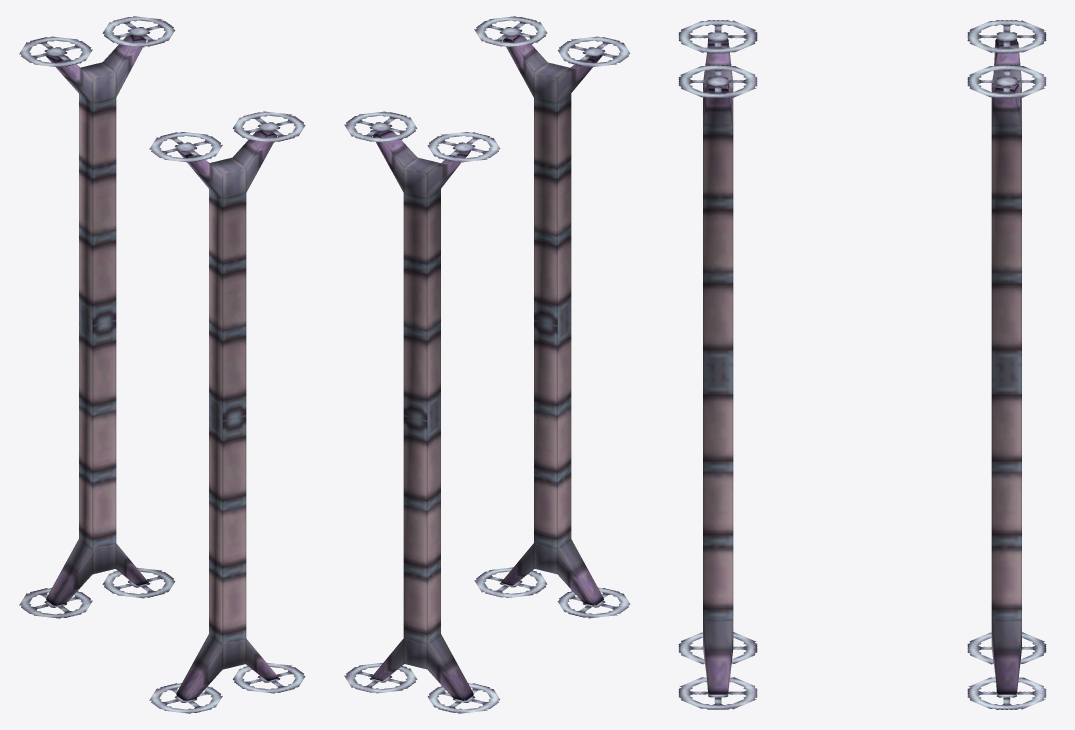
3 renders of one model, left to right at view 1: azimuth 30°, elevation 25°; view 2: azimuth 150°, elevation 25°; view 3: azimuth 270°, elevation 25°, orthographic. The views are drawn at different scales.
Parts seen in each view (by area): view 1: T1L7M002_5; view 2: T1L7M002_5; view 3: T1L7M002_5.
Part boxes in pixels (x1,y1,x2,y2): T1L7M002_5: (19, 16, 305, 713); T1L7M002_5: (344, 16, 630, 713); T1L7M002_5: (678, 20, 1046, 709).
Size of the model in its own units: 1.19 by 3.76 by 2.21.
